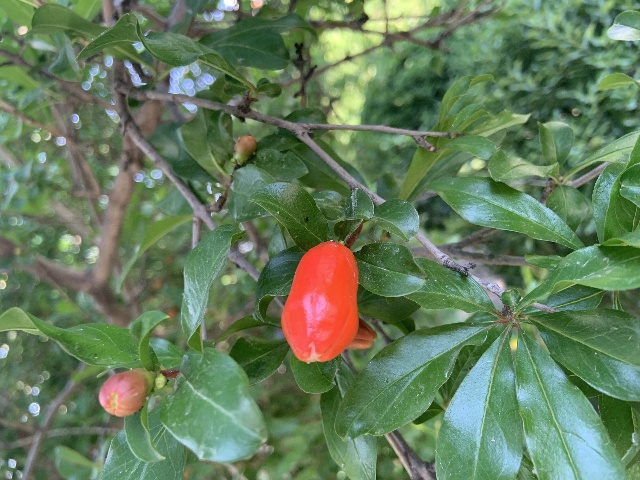bud: (281, 241, 359, 362), (99, 369, 150, 416), (349, 316, 376, 350), (234, 135, 256, 162)
